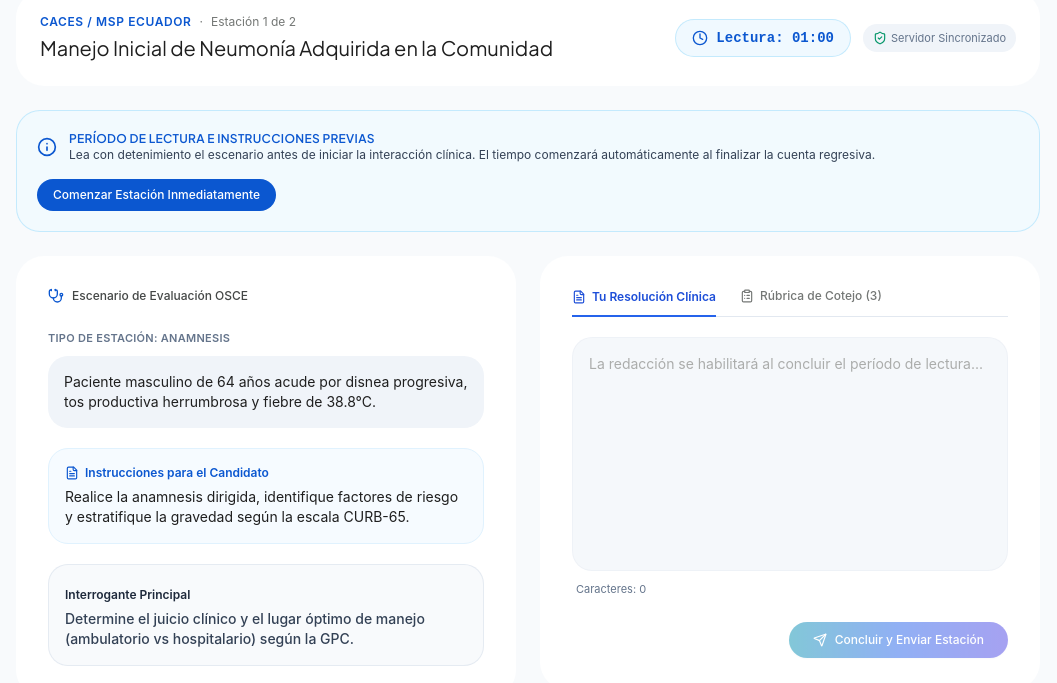
Scenario: Suite de Pruebas: Motor de Exámenes Clínicos Estructurados (OSCE / ECOE - Ateneo+) › permite iniciar la estación activa de forma anticipada con el botón correspondiente
Click the button "Comenzar Estación Inmediatamente" at x=156, y=195, box x1=37 y1=179 x2=276 y2=211
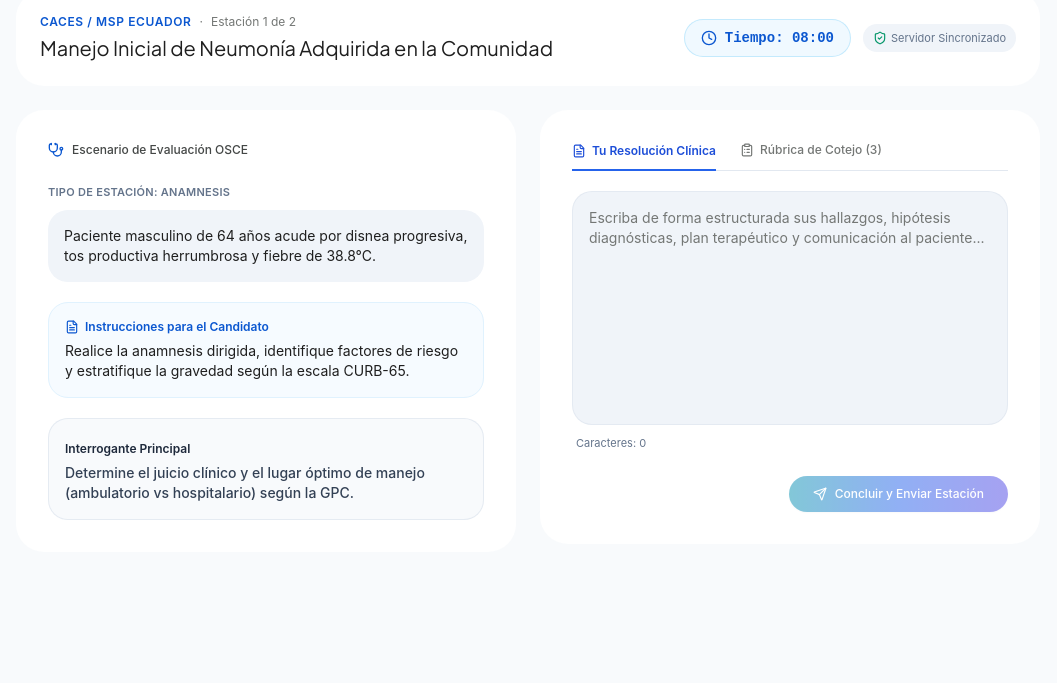
Expected: the text "Tiempo: 08:00" is shown, x1=725 y1=28 x2=834 y2=48
Expected: the heading "Período de Lectura e Instrucciones Previas" is gone
